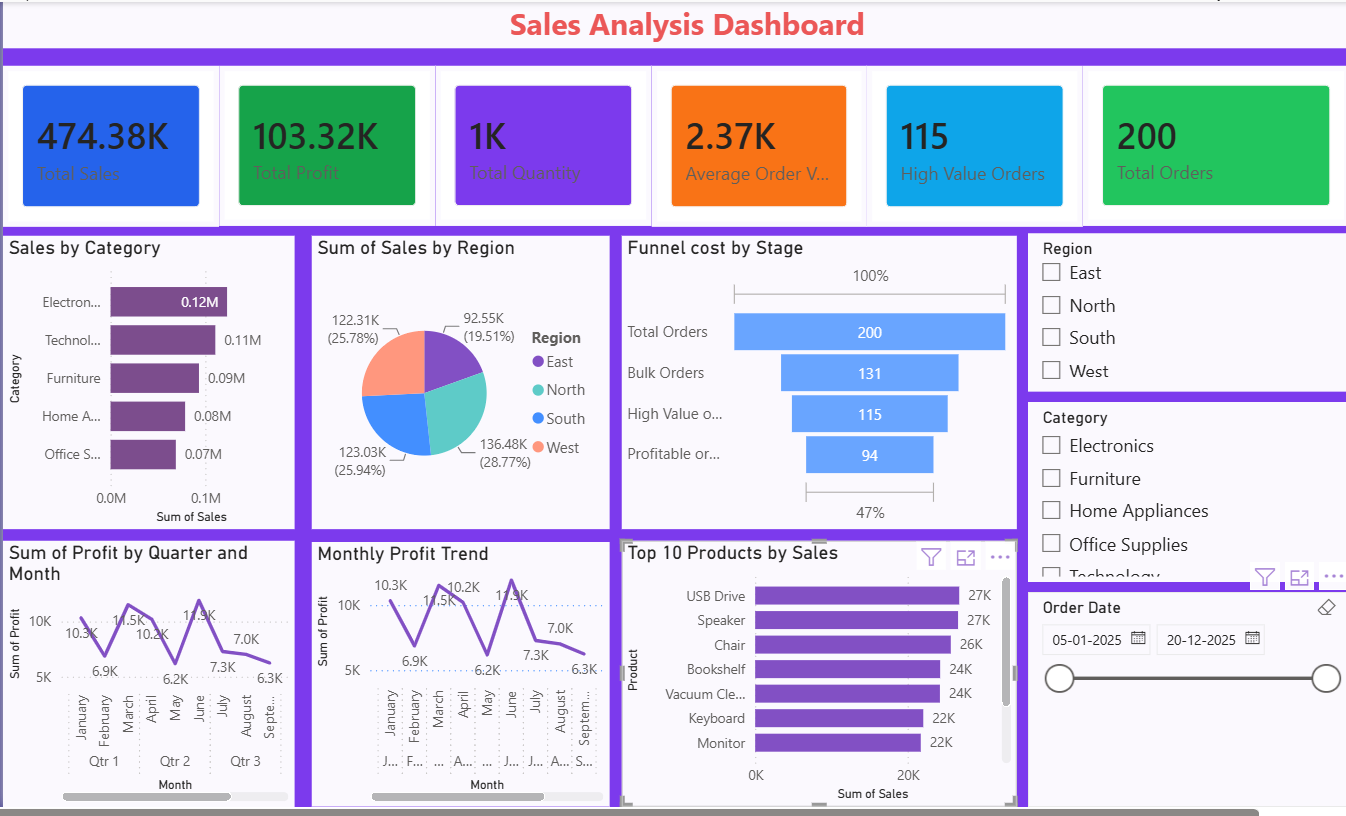

The dashboard page shown, as its layout file describes it:
{"tool":"powerbi","page":{"name":"Page 1","canvas":[1280,720],"ordinal":0},"visuals":[{"type":"funnel","fields":{"Category":["FunnelStages.Stage"],"Y":["FunnelStages.Funnel cost"]},"box":[550,212.2,351.1,261.1],"z":0},{"type":"cardVisual","fields":{"Data":["FunnelStages.Total Sales"]},"box":[0,61.1,192.2,143.3],"z":1000},{"type":"cardVisual","fields":{"Data":["FunnelStages.Total Profit"]},"box":[192.2,61.1,192.2,142.2],"z":2000},{"type":"cardVisual","fields":{"Data":["FunnelStages.Total Quantity"]},"box":[384.4,61.1,192.2,142.2],"z":3000},{"type":"cardVisual","fields":{"Data":["FunnelStages.Average Order Value"]},"box":[576.7,61.1,191.1,143.3],"z":4000},{"type":"cardVisual","fields":{"Data":["SalesData.High Value Orders"]},"box":[767.8,61.1,192.2,143.3],"z":5000},{"type":"cardVisual","fields":{"Data":["SalesData.Total Orders"]},"box":[960,61.1,237.8,142.2],"z":6000},{"type":"clusteredBarChart","title":"Sales by Category","fields":{"Category":["SalesData.Category"],"Y":["Sum(SalesData.Sales)"]},"box":[0,212.2,258.9,261.1],"z":7000},{"type":"lineChart","title":" Monthly Profit Trend","fields":{"Category":["SalesData.Order Date.Variation.Date Hierarchy.Month","SalesData.Order Date.Variation.Date Hierarchy.Month"],"Y":["Sum(SalesData.Profit)"]},"box":[274.4,484.4,264.4,235.6],"z":9000},{"type":"clusteredBarChart","title":"Top 10 Products by Sales","fields":{"Y":["Sum(SalesData.Sales)"],"Category":["SalesData.Product"]},"box":[550,483.3,351.1,236.7],"z":10000},{"type":"slicer","fields":{"Values":["SalesData.Region"]},"box":[911.1,210,312.2,141.1],"z":11000},{"type":"slicer","fields":{"Values":["SalesData.Category"]},"box":[911.1,360,368.9,160],"z":12000},{"type":"lineChart","fields":{"Category":["SalesData.Order Date.Variation.Date Hierarchy.Quarter","SalesData.Order Date.Variation.Date Hierarchy.Month"],"Y":["Sum(SalesData.Profit)"]},"box":[0,483.3,258.9,236.7],"z":14000},{"type":"pieChart","fields":{"Category":["SalesData.Region"],"Y":["Sum(SalesData.Sales)"]},"box":[274.4,212.2,264.4,261.1],"z":14001},{"type":"slicer","fields":{"Values":["SalesData.Order Date"]},"box":[911.1,528.9,286.7,191.1],"z":14002},{"type":"textbox","box":[0,0,1197.8,45.6],"z":14003}]}

Visuals, with their boxes on the page's 1280x720 design canvas (x1, y1, x2, y2). These are canvas units, not pixel positions in the 1346x816 screenshot, which may show the page scaled, cropped or inside an application window:
funnel - FunnelStages.Stage x FunnelStages.Funnel cost: box=[550, 212, 901, 473]
cardVisual - FunnelStages.Total Sales: box=[0, 61, 192, 204]
cardVisual - FunnelStages.Total Profit: box=[192, 61, 384, 203]
cardVisual - FunnelStages.Total Quantity: box=[384, 61, 577, 203]
cardVisual - FunnelStages.Average Order Value: box=[577, 61, 768, 204]
cardVisual - SalesData.High Value Orders: box=[768, 61, 960, 204]
cardVisual - SalesData.Total Orders: box=[960, 61, 1198, 203]
"Sales by Category" clusteredBarChart: box=[0, 212, 259, 473]
" Monthly Profit Trend" lineChart: box=[274, 484, 539, 720]
"Top 10 Products by Sales" clusteredBarChart: box=[550, 483, 901, 720]
slicer - SalesData.Region: box=[911, 210, 1223, 351]
slicer - SalesData.Category: box=[911, 360, 1280, 520]
lineChart - SalesData.Order Date.Variation.Date Hierarchy.Quarter x SalesData.Order Date.Variation.Date Hierarchy.Month: box=[0, 483, 259, 720]
pieChart - SalesData.Region x Sum(SalesData.Sales): box=[274, 212, 539, 473]
slicer - SalesData.Order Date: box=[911, 529, 1198, 720]
textbox: box=[0, 0, 1198, 46]
